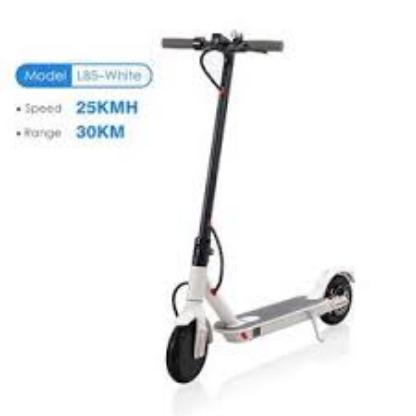bike: (165, 37, 356, 386)
